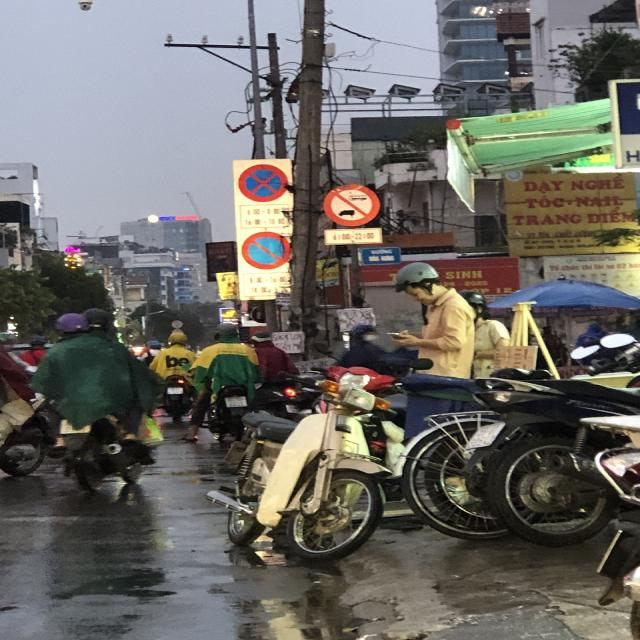Bien bao cam dung xe va do xe: (235, 160, 290, 206)
Bien bao cam xe oto khach va xe oto tai: (320, 180, 387, 228)
